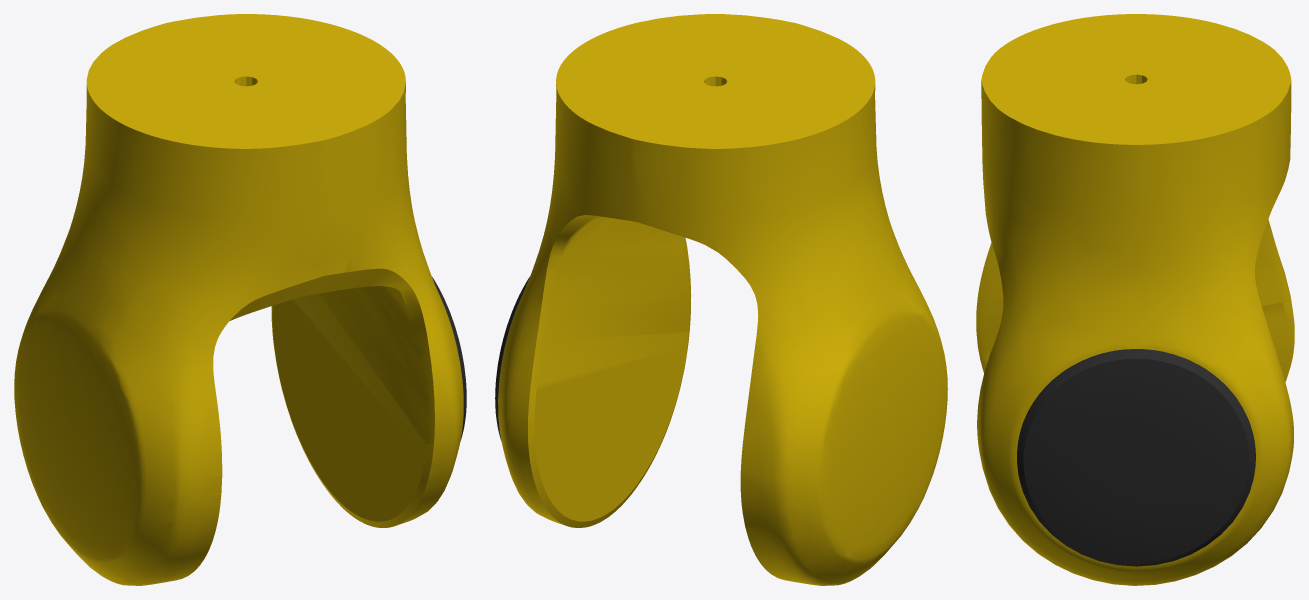
File: shoulder_roll_l_j2_link.glb
The picture shows the model from 3 angles, left to right: view 1: azimuth 30°, elevation 25°; view 2: azimuth 150°, elevation 25°; view 3: azimuth 270°, elevation 25°; orthographic projection. The views are drawn at different scales.
Size of the model in its own units: 0.1184 by 0.1533 by 0.0987.
